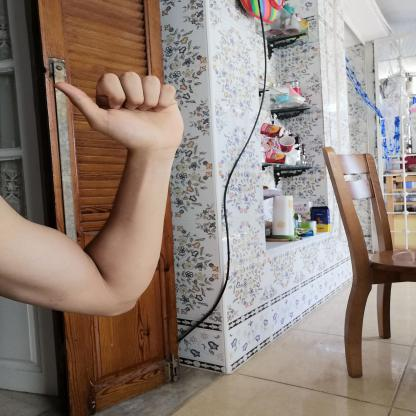DAD: (44, 66, 195, 158)
